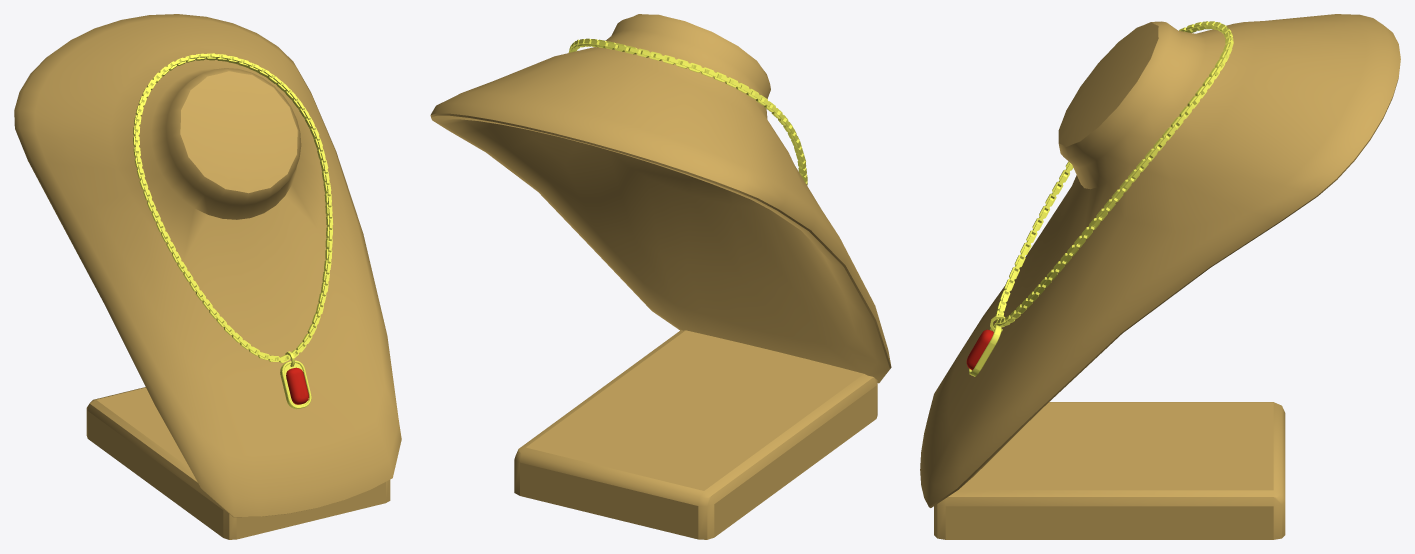
File: Necklace_6.fbx
3 renders of one model, left to right at view 1: azimuth 30°, elevation 25°; view 2: azimuth 150°, elevation 25°; view 3: azimuth 270°, elevation 25°, orthographic. The views are drawn at different scales.
Parts seen in each view (by area): view 1: SM_Stand_Necklace_8, SM_Necklace_8, SM_Cullon_8; view 2: SM_Stand_Necklace_8, SM_Necklace_8; view 3: SM_Stand_Necklace_8, SM_Necklace_8, SM_Cullon_8.
Part boxes in pixels (bbox=[...]): SM_Stand_Necklace_8: bbox=[14, 14, 401, 539]; SM_Necklace_8: bbox=[133, 53, 333, 363]; SM_Cullon_8: bbox=[280, 351, 311, 409]; SM_Stand_Necklace_8: bbox=[430, 14, 891, 539]; SM_Necklace_8: bbox=[568, 38, 807, 185]; SM_Stand_Necklace_8: bbox=[920, 14, 1400, 539]; SM_Necklace_8: bbox=[995, 21, 1233, 327]; SM_Cullon_8: bbox=[966, 315, 1005, 376].
Size of the model in its own units: 22.51 by 29.29 by 27.78.
